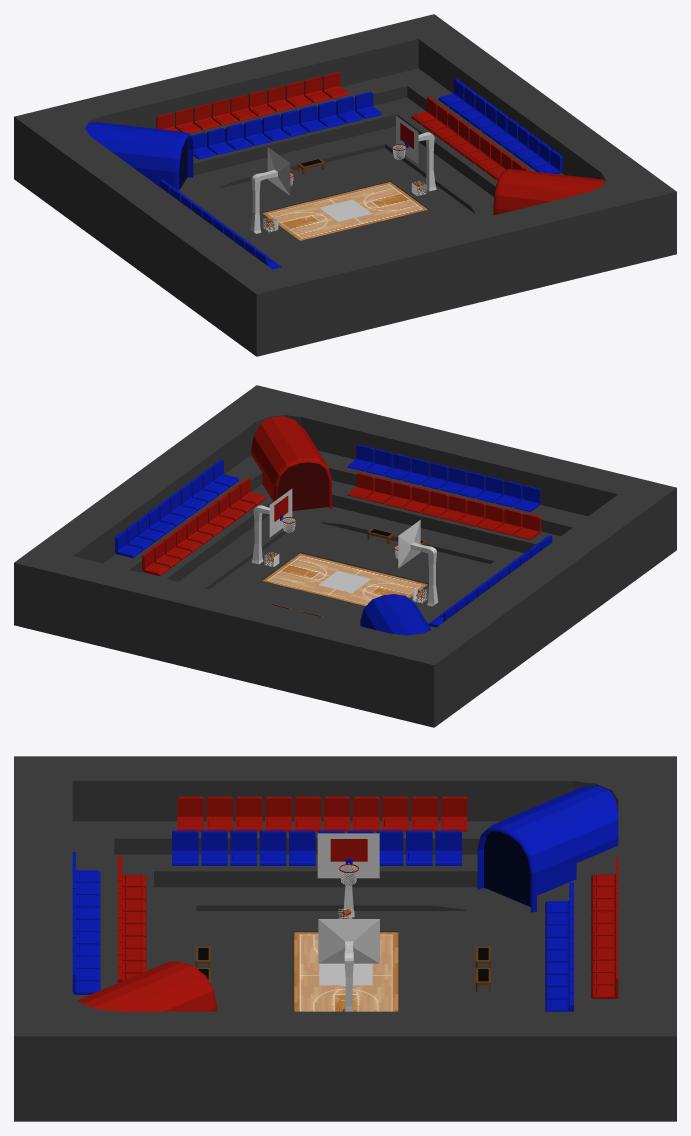
File: basketball.fbx
The picture shows the model from 3 angles, top to bottom: view 1: azimuth 30°, elevation 25°; view 2: azimuth 150°, elevation 25°; view 3: azimuth 270°, elevation 25°; orthographic projection. The views are drawn at different scales.
Visible parts, largest first — view 1: Cube, Cube.005, Cube.006, Cube.015, 51442, Cube.008, Cube.007, Cube.016, Cube.009, Cube.001, Cube.012, chicago-bulls-logo-symbol-2; view 2: Cube, Cube.016, Cube.003, Cube.004, Cube.007, Cube.008, 51442, Cube.015, Cube.009, Cube.001, Cube.012, chicago-bulls-logo-symbol-2; view 3: Cube, Cube.015, Cube.002, Cube.001, 51442, Cube.016, Cube.004, Cube.006, Cube.005, Cube.003, Cube.012, Cube.009 (+2 smaller).
Part boxes in pixels (box(x1,y1,x2,y2)): Cube: box(14, 14, 676, 356); Cube.005: box(191, 91, 381, 159); Cube.006: box(156, 72, 349, 133); Cube.015: box(85, 122, 193, 190); 51442: box(262, 182, 427, 240); Cube.008: box(438, 79, 562, 174); Cube.007: box(411, 97, 530, 180); Cube.016: box(493, 169, 605, 215); Cube.009: box(250, 147, 290, 233); Cube.001: box(159, 179, 281, 269); Cube.012: box(396, 115, 436, 191); chicago-bulls-logo-symbol-2: box(319, 199, 371, 221); Cube: box(14, 385, 676, 727); Cube.016: box(251, 416, 331, 510); Cube.003: box(347, 472, 541, 540); Cube.004: box(347, 444, 540, 511); Cube.007: box(142, 478, 266, 576); Cube.008: box(115, 459, 239, 558); 51442: box(263, 553, 427, 605); Cube.015: box(360, 594, 431, 635); Cube.009: box(398, 520, 438, 606); Cube.001: box(428, 535, 552, 627); Cube.012: box(251, 488, 292, 564); chicago-bulls-logo-symbol-2: box(319, 571, 370, 592); Cube: box(14, 756, 676, 1121); Cube.015: box(477, 785, 618, 912); Cube.002: box(177, 796, 467, 831); Cube.001: box(172, 830, 461, 865); 51442: box(294, 932, 398, 1011); Cube.016: box(78, 961, 217, 1011); Cube.004: box(72, 852, 100, 994); Cube.006: box(591, 856, 618, 998); Cube.005: box(545, 882, 573, 1011); Cube.003: box(117, 856, 146, 982); Cube.012: box(318, 919, 379, 1011); Cube.009: box(317, 833, 379, 917).
Bounding box in the file's own units: 1246 × 217 × 1246.
